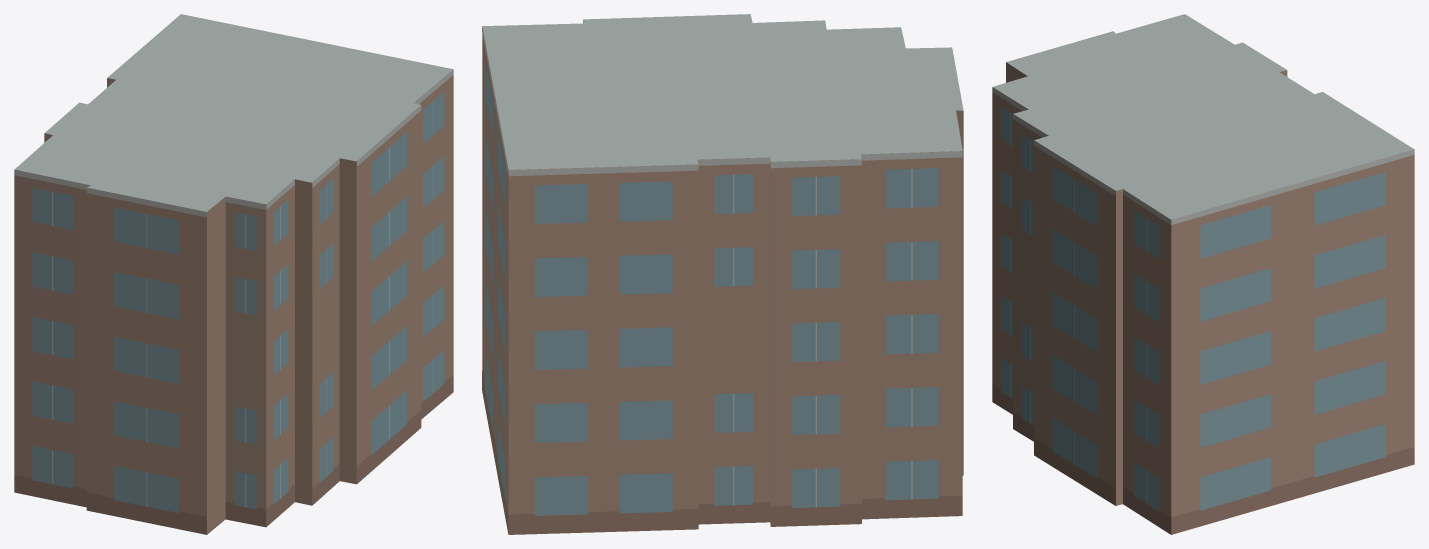
Rendered from survey-upis-32888472.glb.
3 renders of one model, left to right at view 1: azimuth 30°, elevation 25°; view 2: azimuth 150°, elevation 25°; view 3: azimuth 270°, elevation 25°, orthographic. The views are drawn at different scales.
Parts seen in each view (by area): view 1: survey-upis-32888472.tmp; view 2: survey-upis-32888472.tmp; view 3: survey-upis-32888472.tmp.
Boxes of the visible parts, <box> form: survey-upis-32888472.tmp: <box>14,14,453,534</box>; survey-upis-32888472.tmp: <box>482,14,963,534</box>; survey-upis-32888472.tmp: <box>992,14,1414,534</box>.
Bounding box in the file's own units: 19.97 × 14.25 × 17.31.
